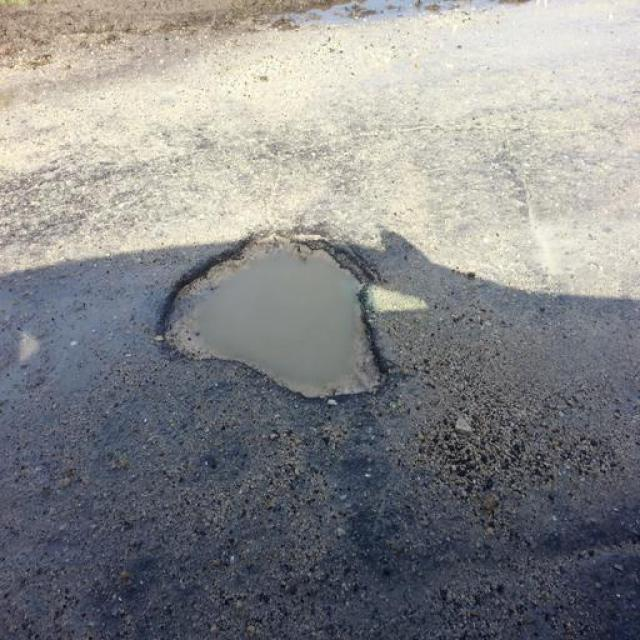puddle: (193, 236, 412, 432)
